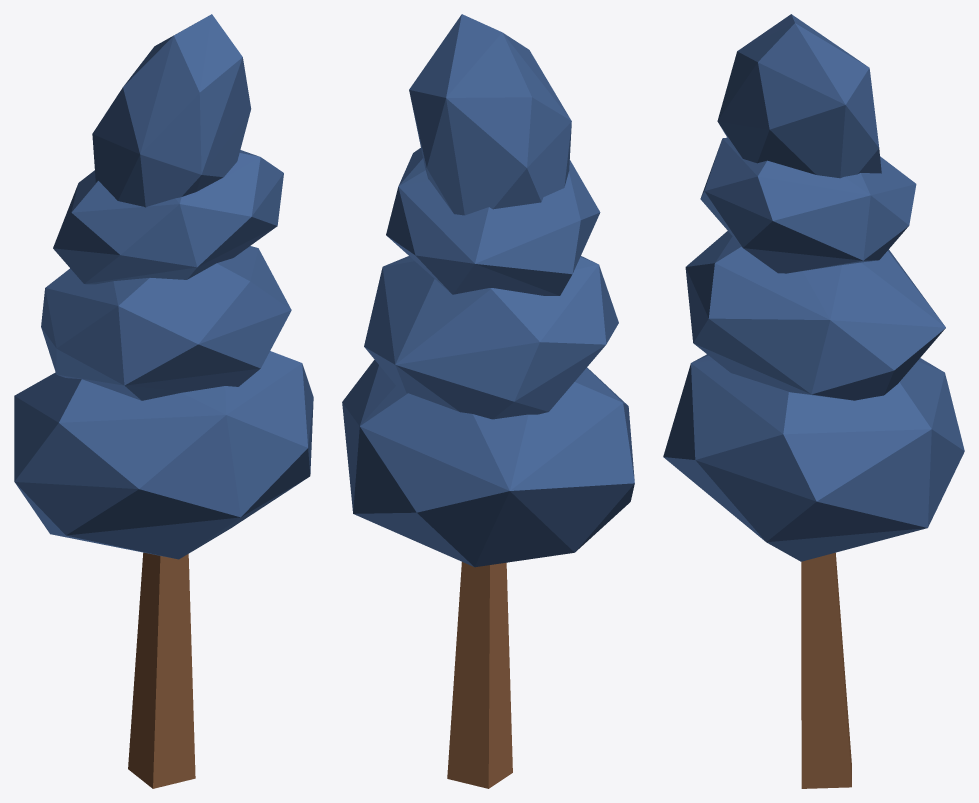
File: tree-winter-complete-4-008.glb
3 renders of one model, left to right at view 1: azimuth 30°, elevation 25°; view 2: azimuth 150°, elevation 25°; view 3: azimuth 270°, elevation 25°, orthographic. The views are drawn at different scales.
Visible parts, largest first — view 1: TREE 4.005_201, TREE 4.004_217; view 2: TREE 4.005_201, TREE 4.004_217; view 3: TREE 4.005_201, TREE 4.004_217.
Part boxes in pixels (x1=…): TREE 4.005_201: x1=14, y1=14, x2=313, y2=559; TREE 4.004_217: x1=128, y1=552, x2=195, y2=788; TREE 4.005_201: x1=342, y1=14, x2=634, y2=567; TREE 4.004_217: x1=447, y1=562, x2=512, y2=788; TREE 4.005_201: x1=663, y1=14, x2=964, y2=561; TREE 4.004_217: x1=801, y1=552, x2=851, y2=788.
Size of the model in its own units: 0.7503 by 1.82 by 0.646.
